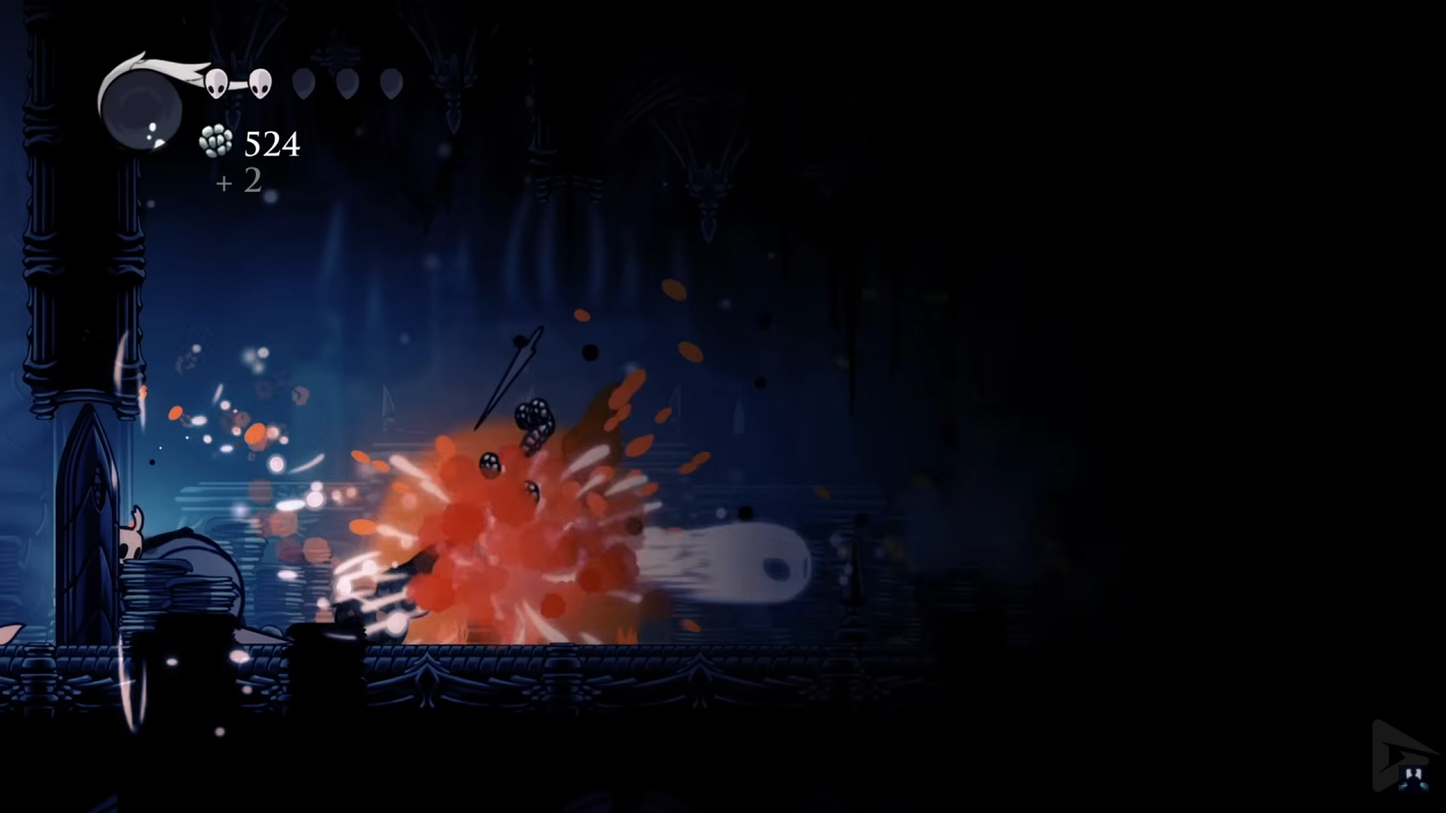HK: (114, 503, 154, 563)
